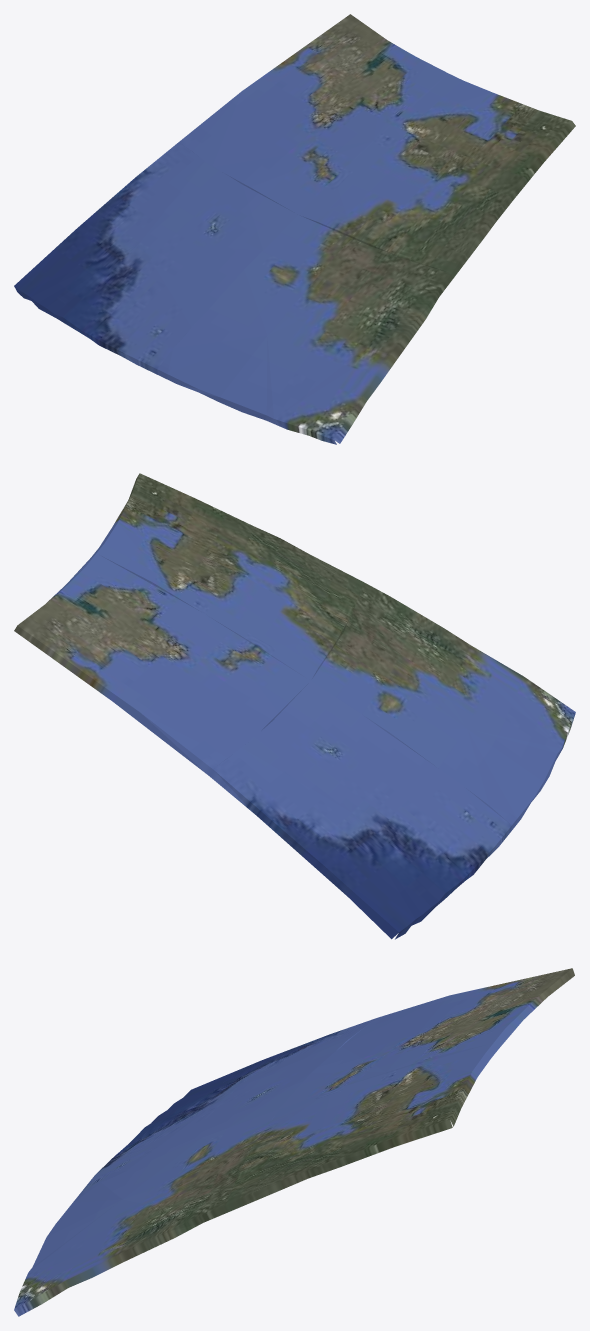
3 renders of one model, top to bottom at view 1: azimuth 30°, elevation 25°; view 2: azimuth 150°, elevation 25°; view 3: azimuth 330°, elevation 25°, orthographic. The views are drawn at different scales.
Bounding box in the file's own units: 1307460 × 619478 × 1374896.
Materials: 1 (1 with a texture image).
